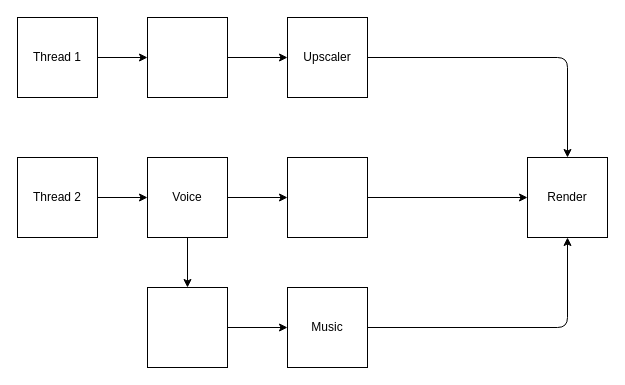
Image size: 625x385. Some labels were removed from this diagram. Here are the shapes that lost their labels. From the top down, the centre of each, then its label:
At pixel 187 57: "Video".
At pixel 327 197: "Whisper".
At pixel 187 327: "Thread 3".
